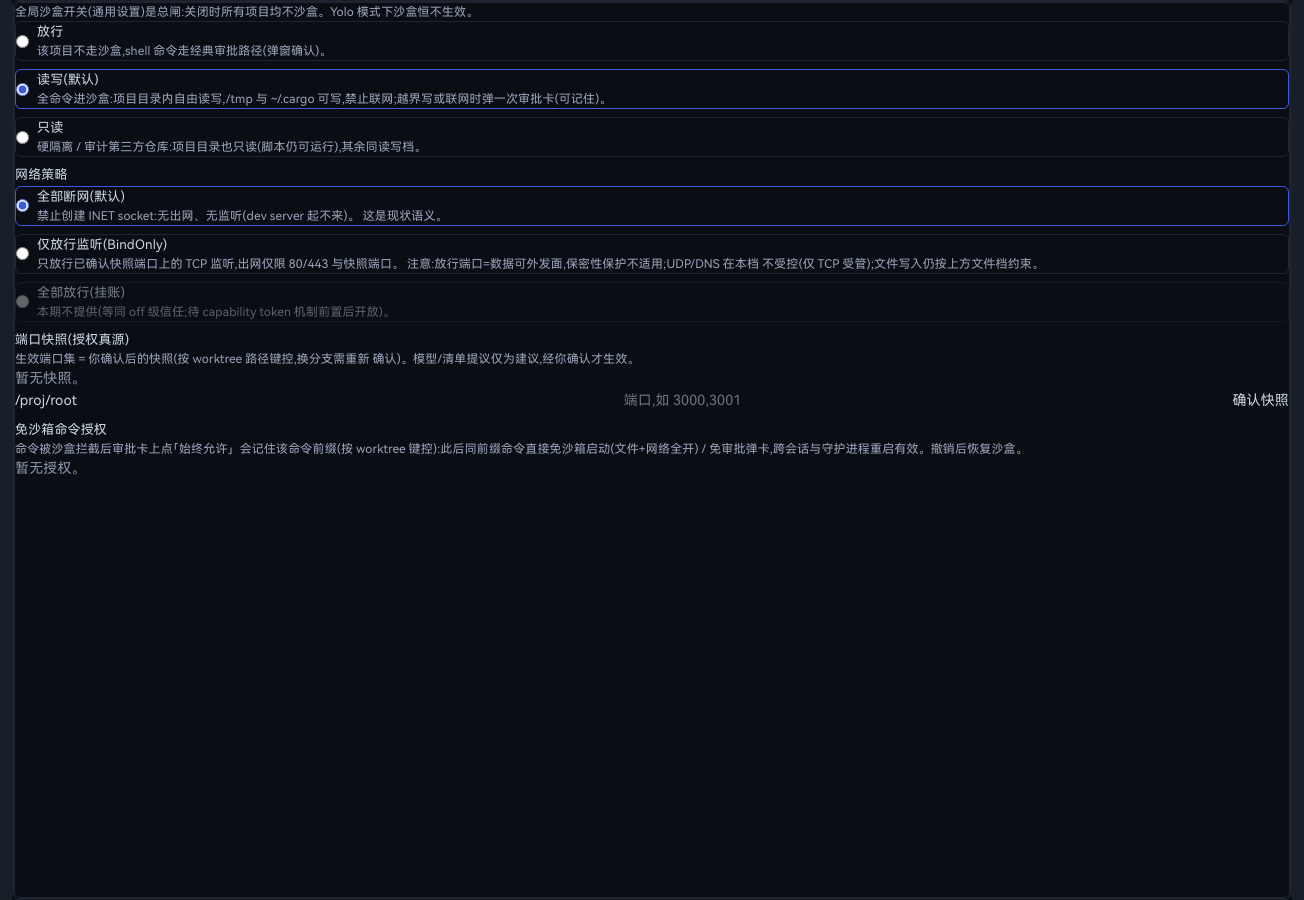
Test case: ProjectSandboxTab net section › 快照确认流:输入端口确认 → confirmNetSnapshot + 档位变 bind_only
Step 1. Type "3000,3001" into the field with test id "net-ports-input" → (924, 401), box [624,390,1224,412]
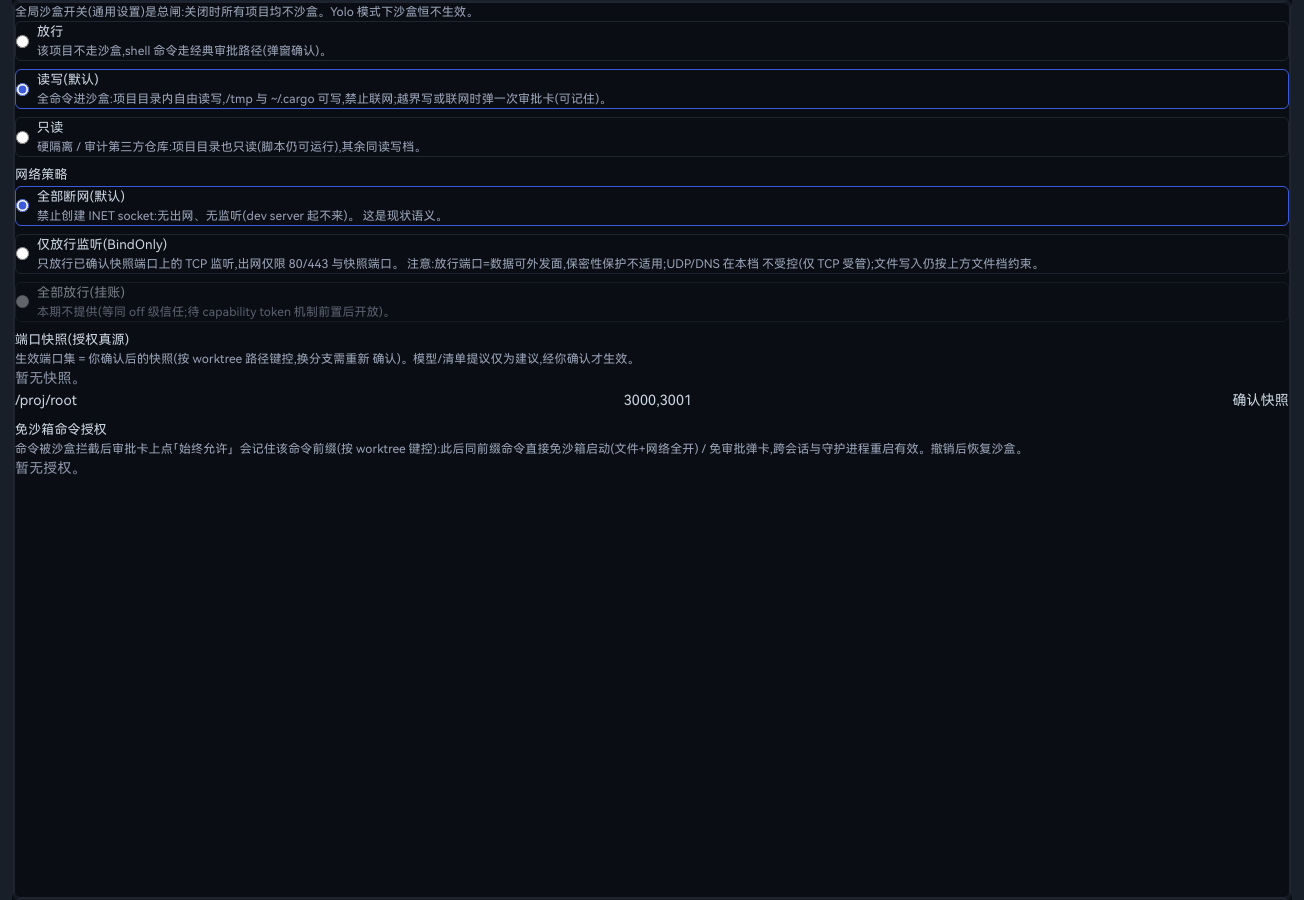
Step 2. Click the button with test id "net-confirm" → (1261, 401), box [1232,390,1289,412]
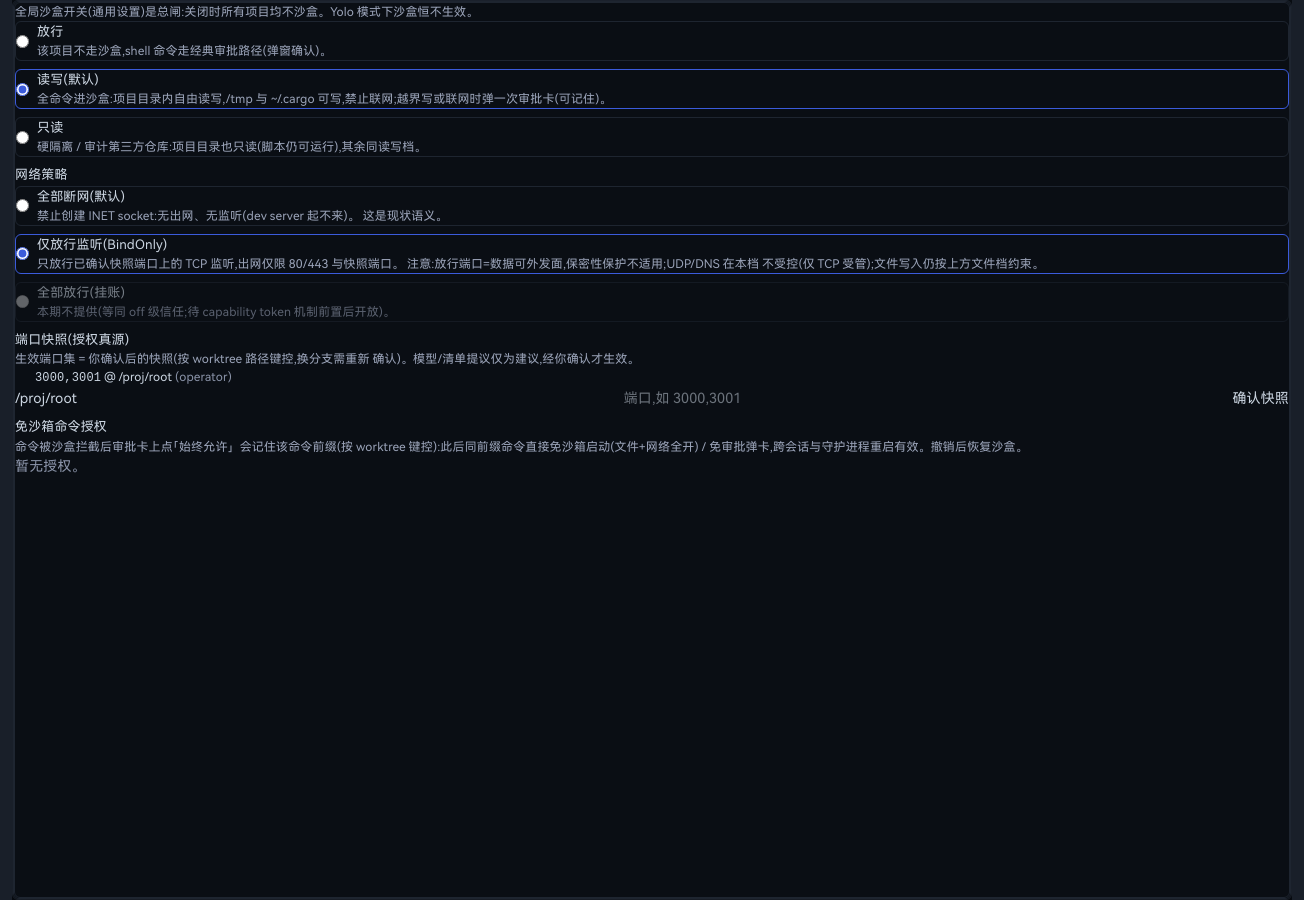
Result: the radio button named "project-sandbox-net" is checked at [16,247,29,260]
Result: the list with test id "net-snapshot-list" shows "3000,3001" at [35,371,101,385]
